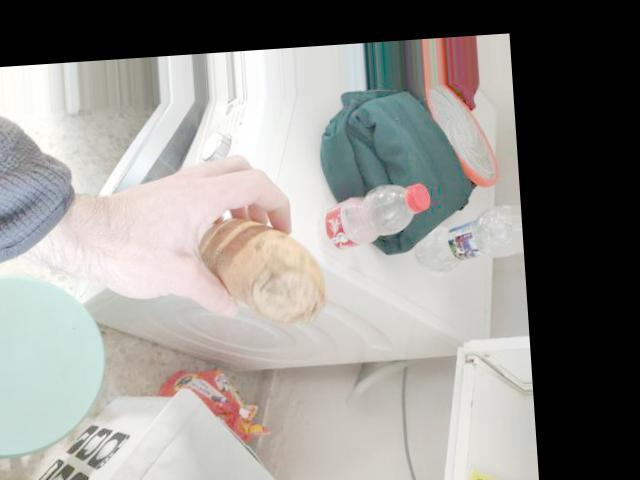sweet_potato: (197, 215, 332, 325)
